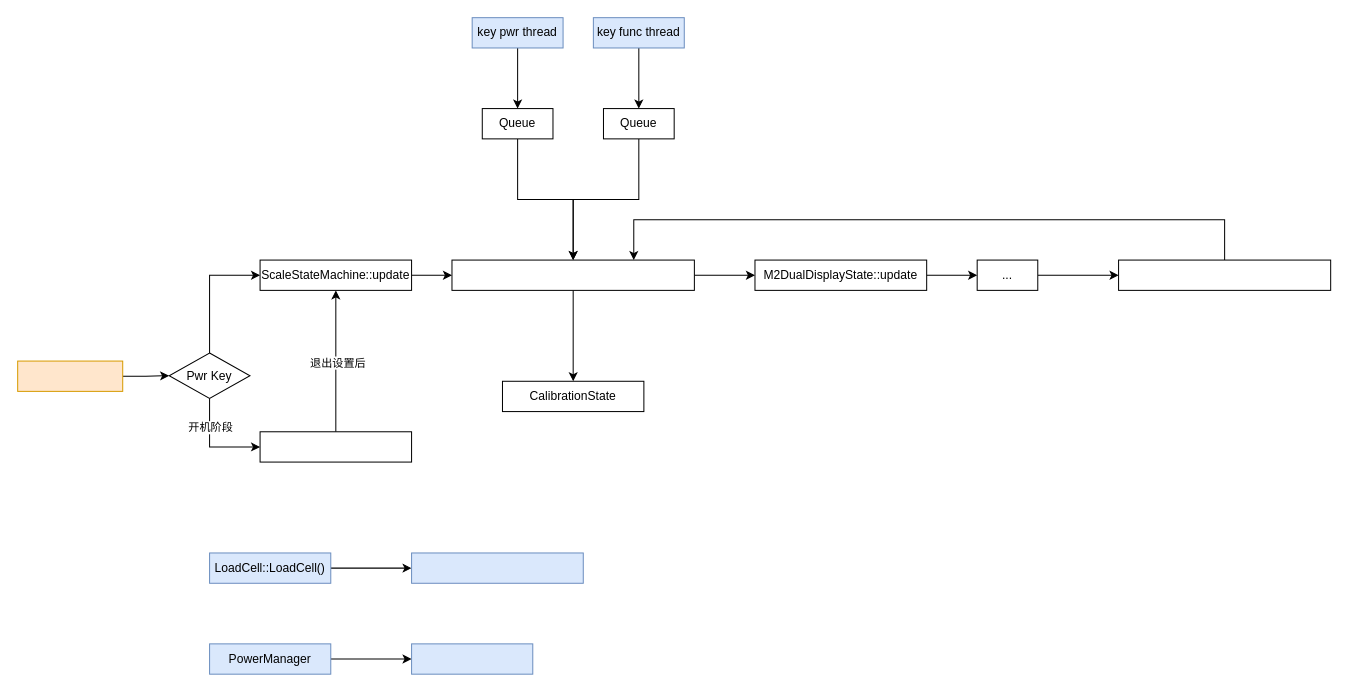
Some shapes in this 1348 by 692 pixel diagram are drawn without their labels. Each missing label, with the centre of its shape:
"M1NormalWeightState::update" goes at pixel 572 274.
"M6AutoSkinRemoveState::update" goes at pixel 1224 274.
"Main thread" goes at pixel 70 375.
"settingsStateMachinePoll" goes at pixel 335 446.
"数码管调调暗检测Thread" goes at pixel 497 567.
"电源管理thread" goes at pixel 472 658.
